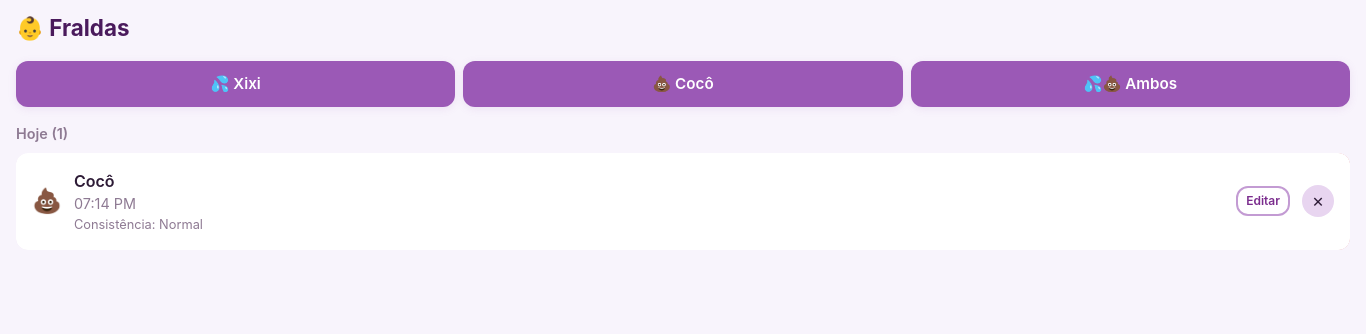
it: Diaper › opens edit form on click
Click the button "Editar" at (1263, 201), box [1236,186,1290,216]
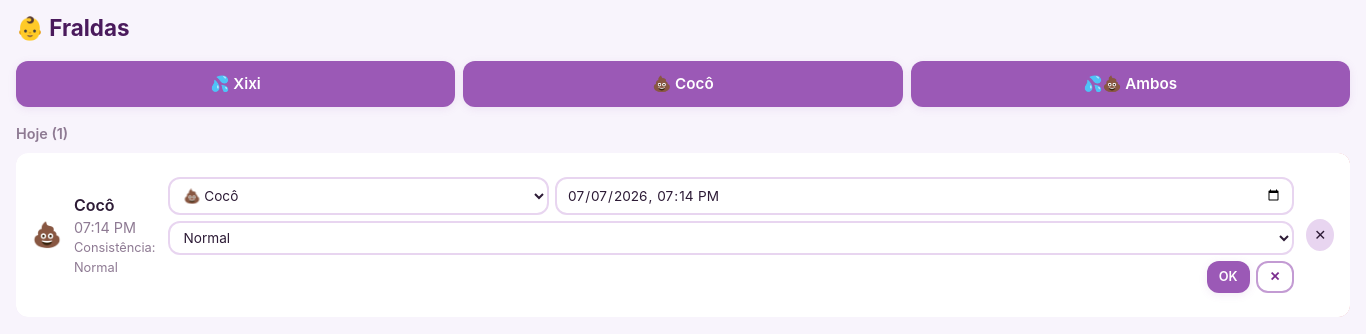
Expected: the 1st dropdown showing "💩 Cocô" is shown, [168,177,549,215]
